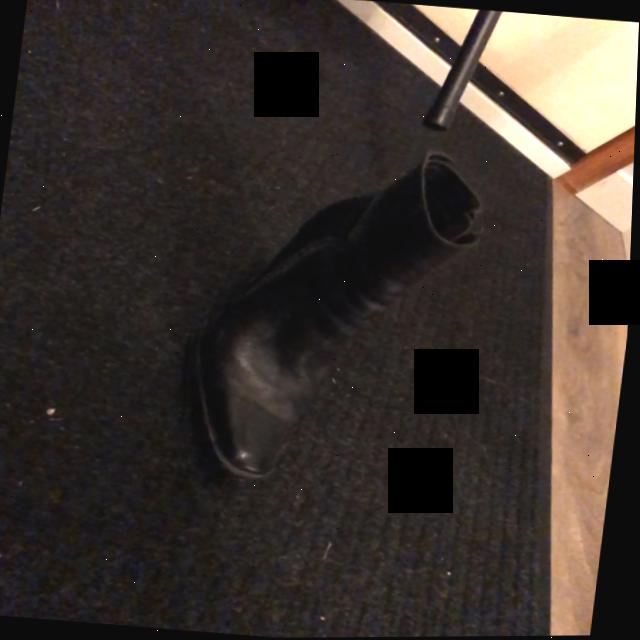shoe: (187, 158, 484, 480)
